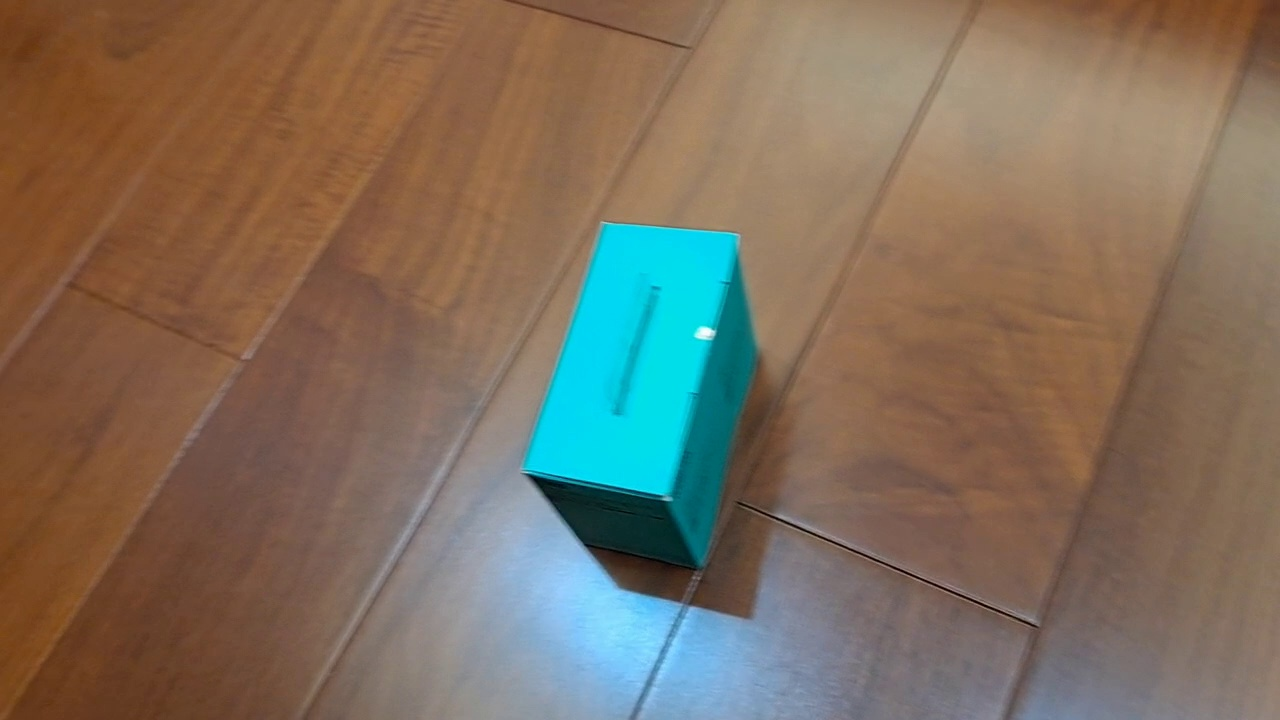webcam: (518, 220, 761, 572)
